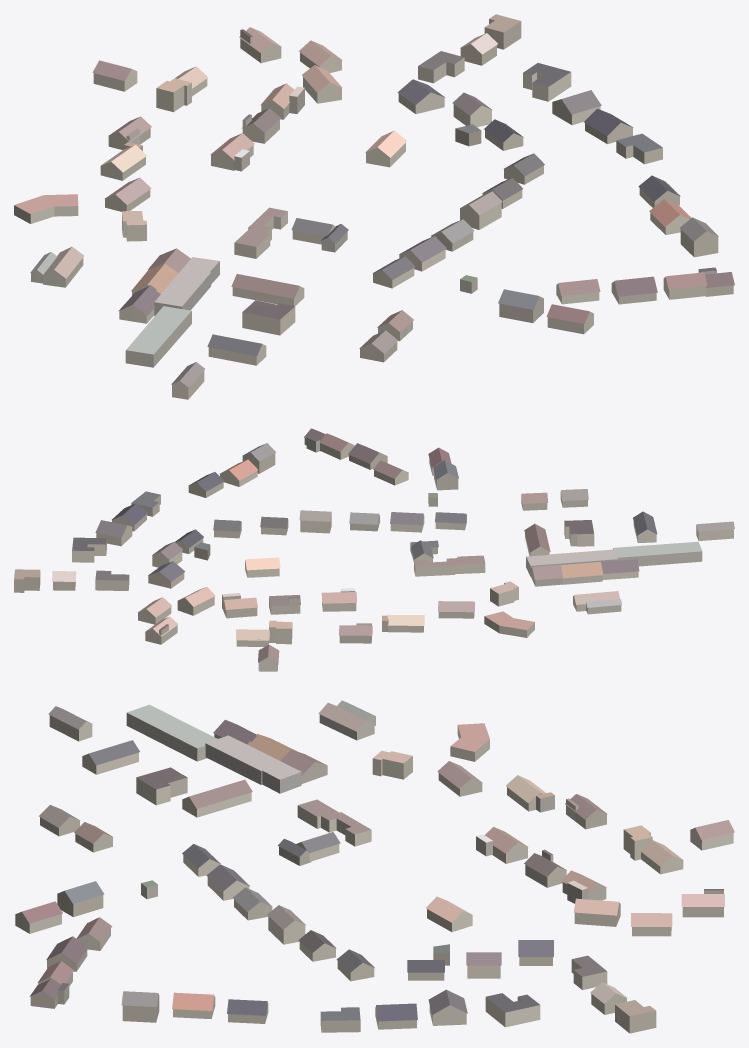
3 views of the same model, one above another, from view 1: azimuth 30°, elevation 25°; view 2: azimuth 150°, elevation 25°; view 3: azimuth 270°, elevation 25° (orthographic). The views are drawn at different scales.
Visible parts, largest first — view 1: tuile; view 2: tuile; view 3: tuile.
Part boxes in pixels (box(x1,y1,x2,y2)): tuile: box(14, 14, 734, 399); tuile: box(14, 428, 734, 671); tuile: box(15, 700, 734, 1033).
Bounding box in the file's own units: 260 × 19.01 × 256.
